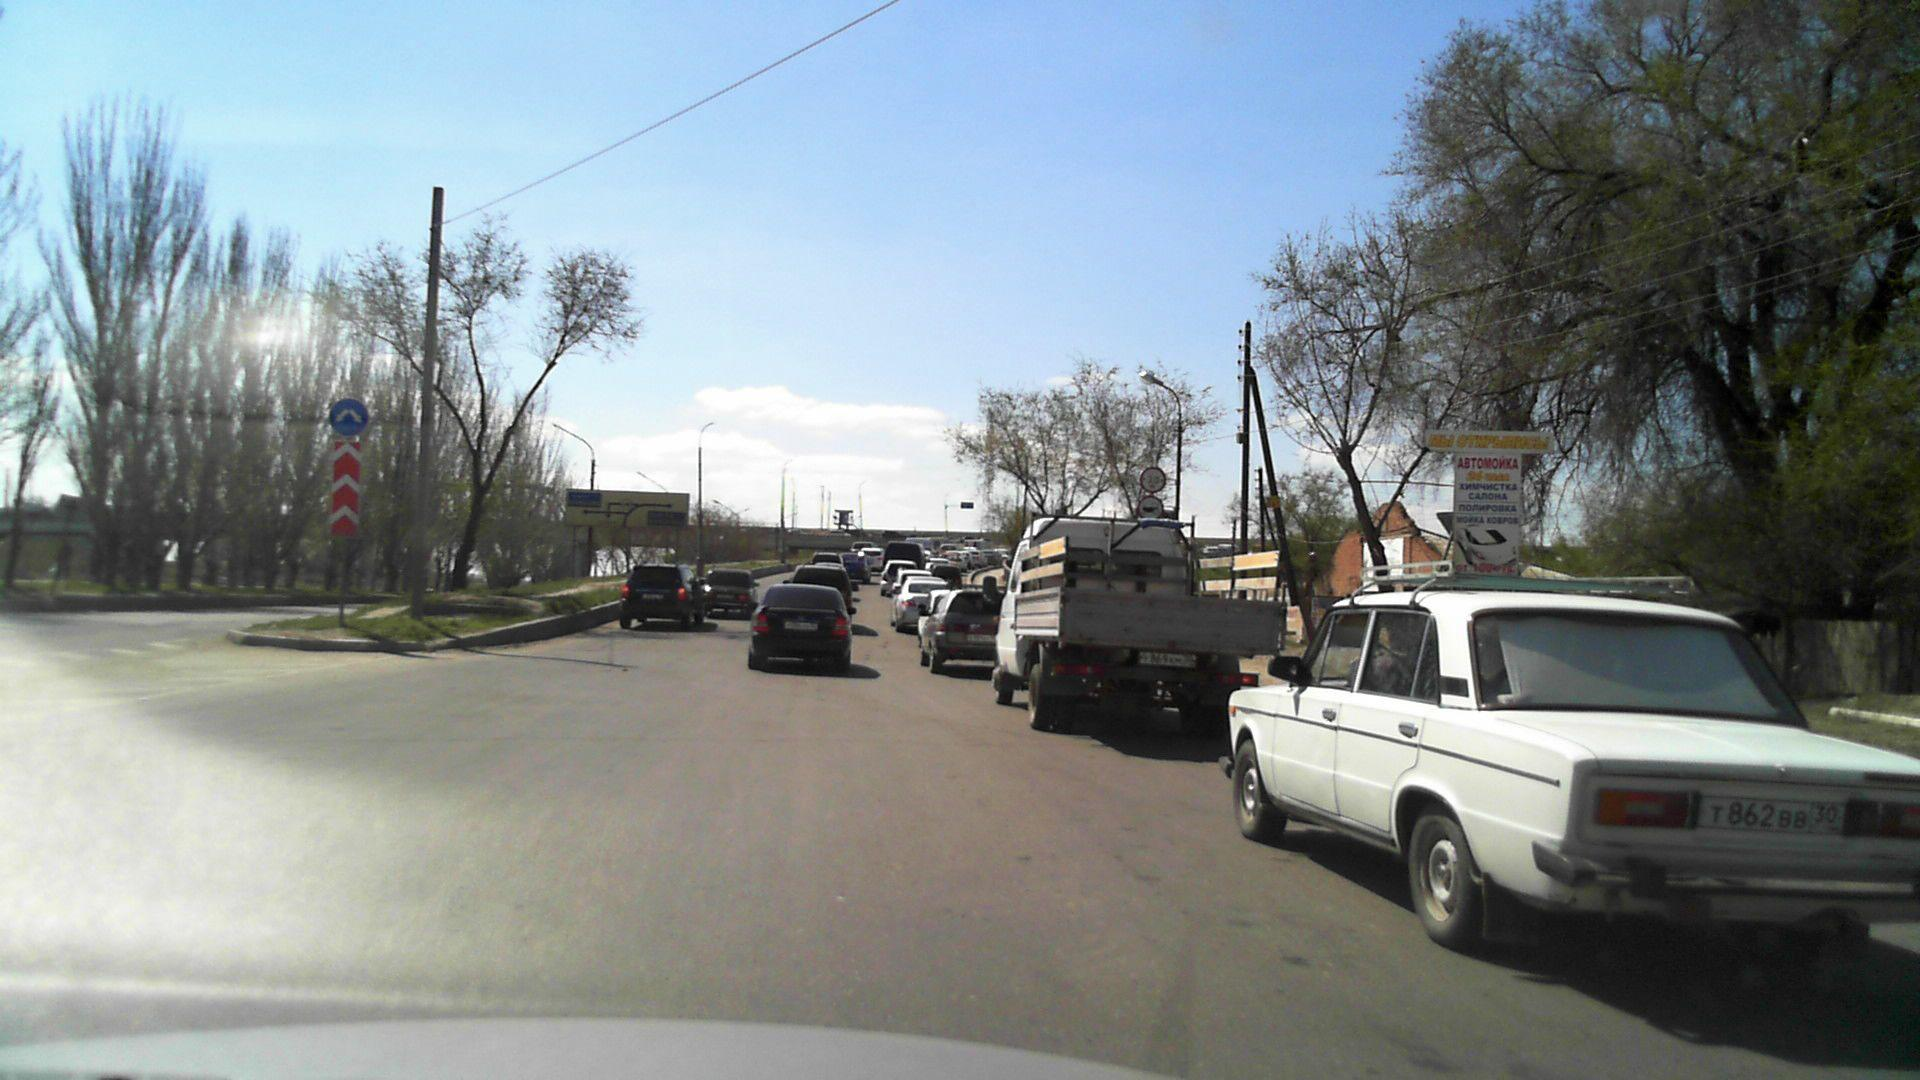3_14: (1139, 465, 1166, 493)
3_6: (1135, 495, 1163, 521)
4_2_3: (326, 392, 369, 436)
6_9_1: (563, 488, 691, 534)
8_22_3: (326, 436, 365, 541)
